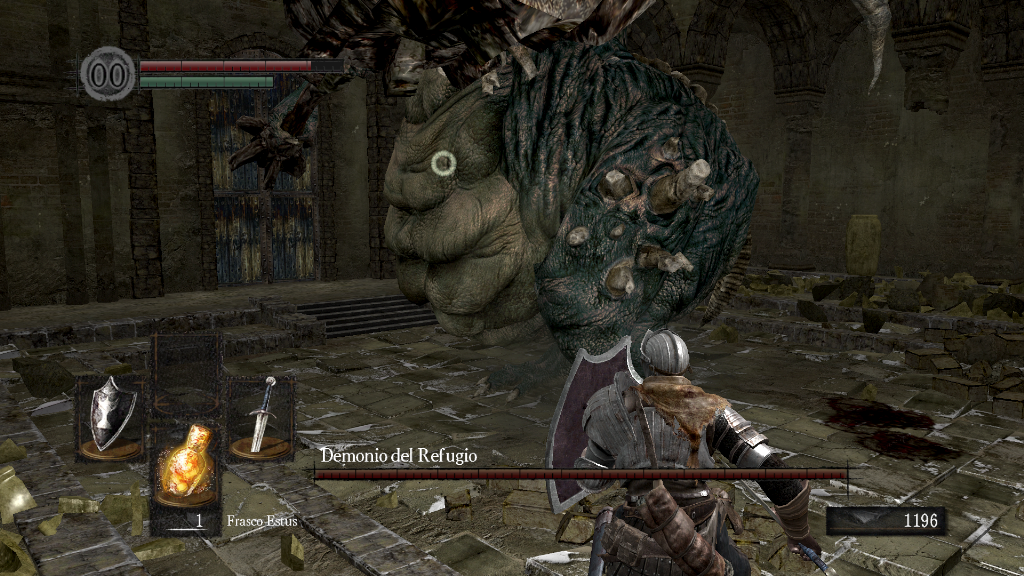asylumDemon: (216, 1, 759, 405)
bossHP: (314, 469, 847, 479)
health: (138, 58, 343, 71)
humanity: (80, 45, 136, 102)
player: (542, 328, 838, 576)
souls: (825, 506, 945, 536)
stamina: (138, 74, 274, 88)
